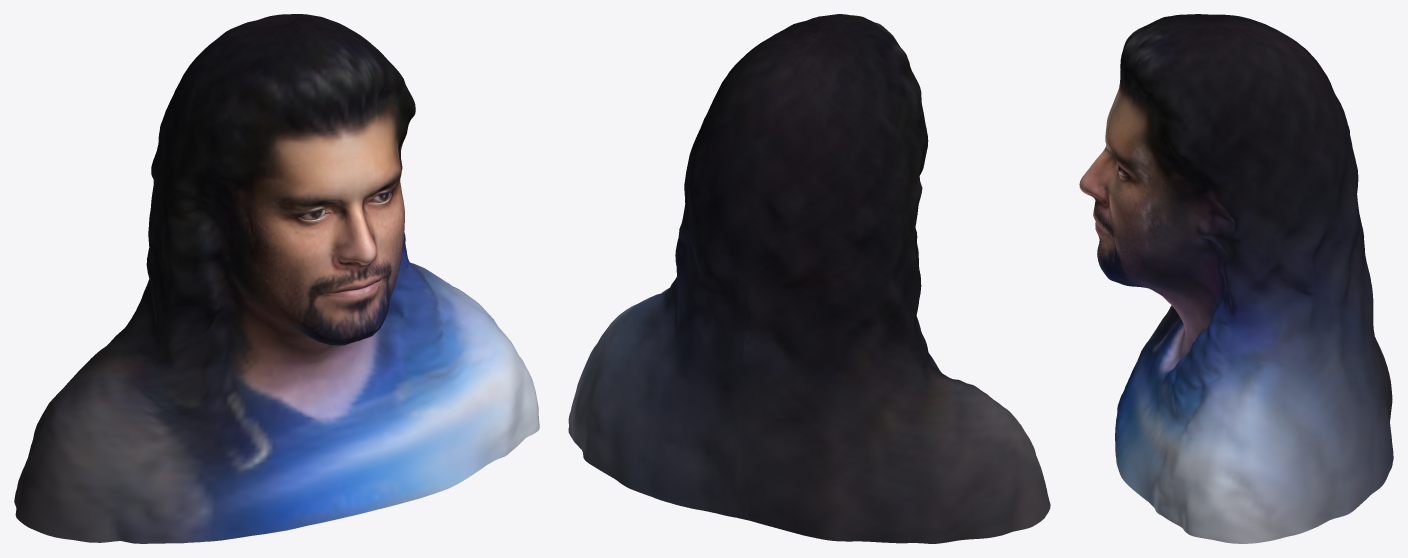
The model's file is roman_reigns.glb.
3 views of the same model, side by side, from view 1: azimuth 30°, elevation 25°; view 2: azimuth 150°, elevation 25°; view 3: azimuth 270°, elevation 25° (orthographic). The views are drawn at different scales.
Visible parts, largest first — view 1: model; view 2: model; view 3: model.
Boxes of the visible parts, <box> form: model: <box>14,14,539,543</box>; model: <box>568,14,1050,543</box>; model: <box>1079,14,1393,543</box>.
Bounding box in the file's own units: 0.4578 × 0.3945 × 0.2721.
Materials: 1 (1 with a texture image).
